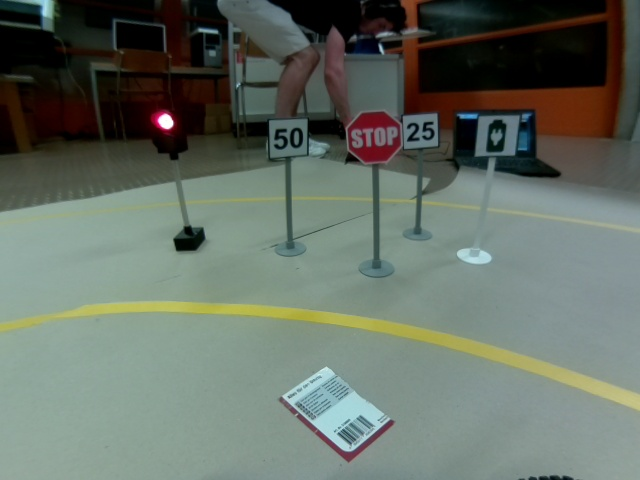battery: (474, 113, 521, 158)
speed25: (401, 112, 441, 150)
speed50: (267, 117, 311, 159)
stop: (345, 110, 404, 166)
traffic light: (149, 109, 190, 155)
